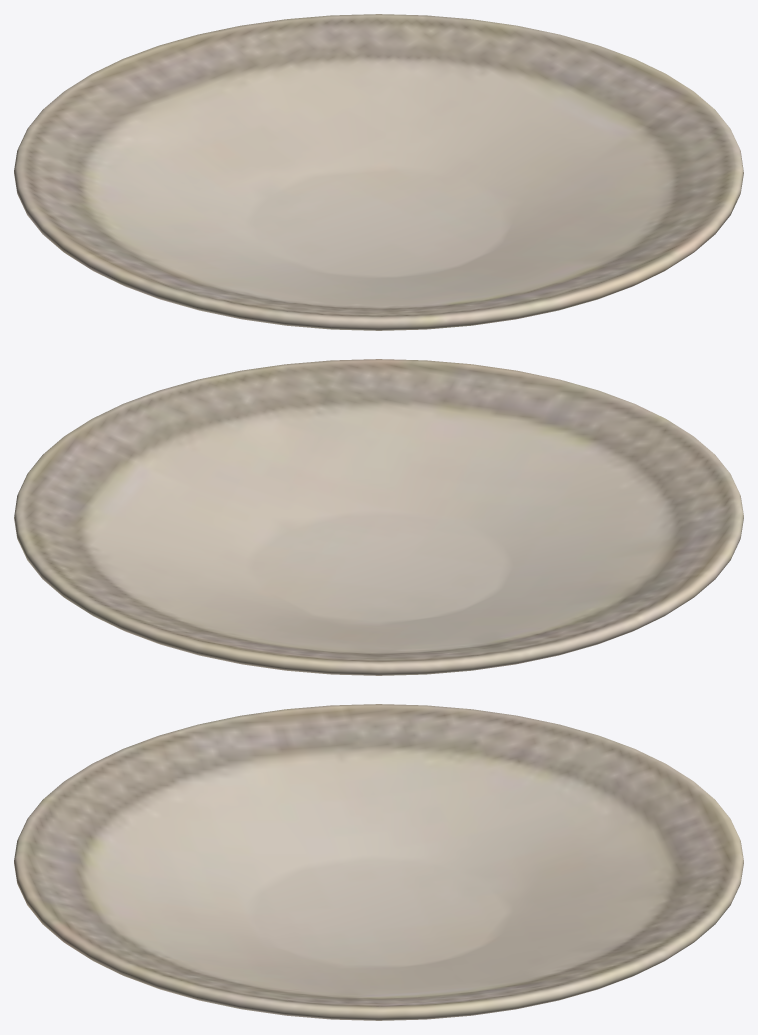
The model's file is saucer.glb.
3 views of the same model, one above another, from view 1: azimuth 30°, elevation 25°; view 2: azimuth 150°, elevation 25°; view 3: azimuth 270°, elevation 25° (orthographic).
Parts seen in each view (by area): view 1: tea_set_01_saucer_circular_03; view 2: tea_set_01_saucer_circular_03; view 3: tea_set_01_saucer_circular_03.
Boxes of the visible parts, x1,y1,x2,y2 form: tea_set_01_saucer_circular_03: (14, 14, 743, 330); tea_set_01_saucer_circular_03: (14, 359, 743, 675); tea_set_01_saucer_circular_03: (14, 704, 743, 1020).
Bounding box in the file's own units: 0.149 × 0.0158 × 0.149.
Materials: 1 (1 with a texture image).
